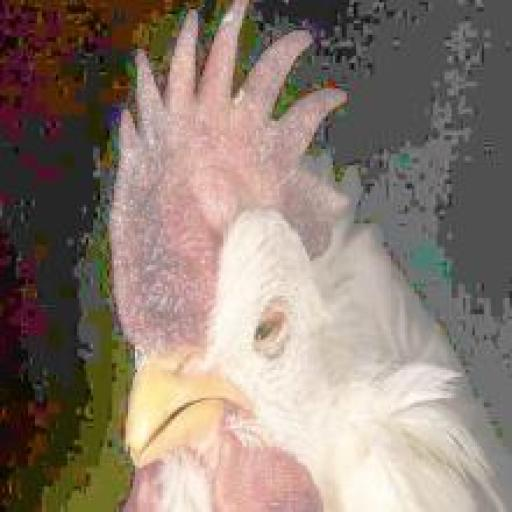disease: (150, 153, 309, 226), (224, 288, 312, 364), (208, 78, 352, 113), (210, 10, 239, 28)
